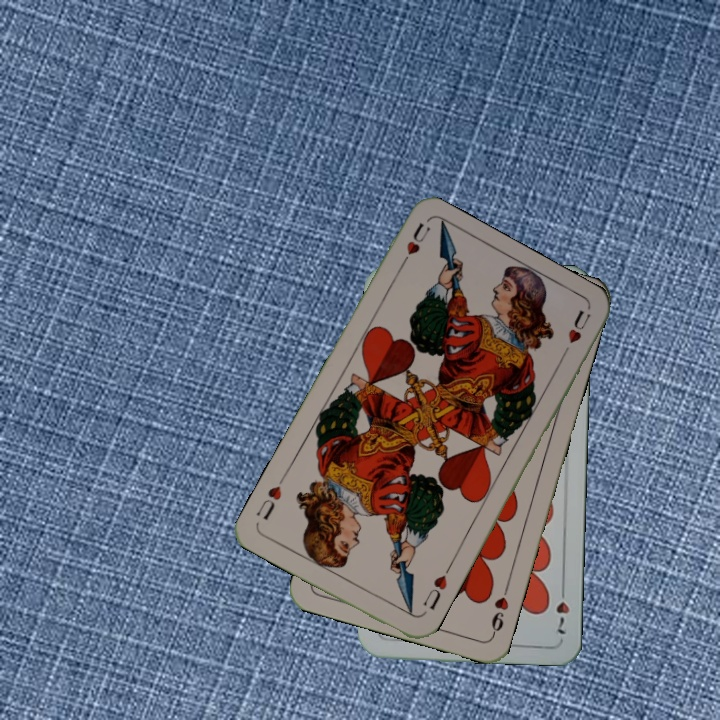H7: (551, 580, 572, 639)
H9: (487, 581, 512, 639)
HU: (394, 218, 433, 273), (418, 563, 453, 613)
